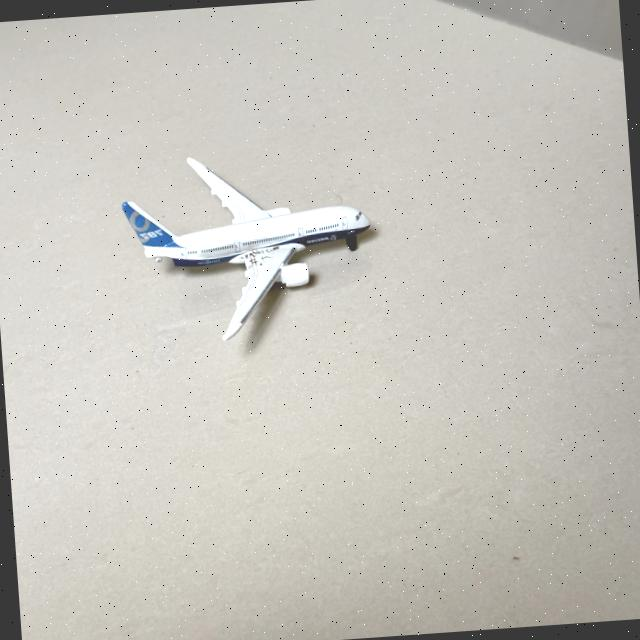air-plane: (122, 157, 370, 340)
